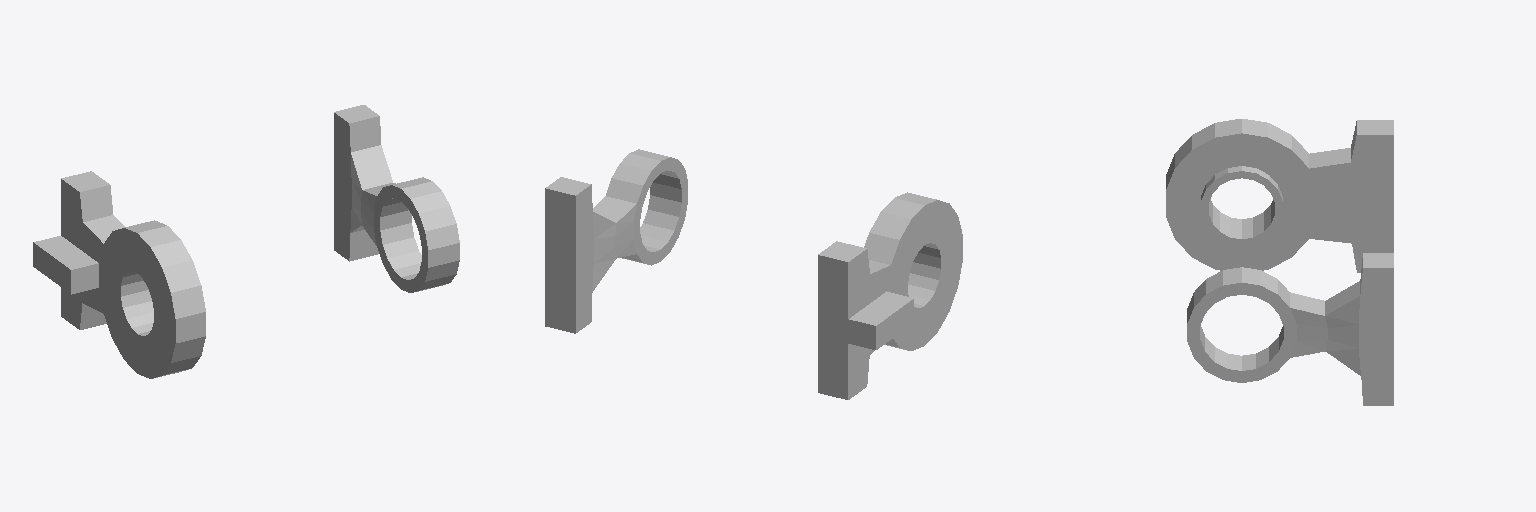
The model's file is RAnkleRoll_secondaryskin.obj.
3 renders of one model, left to right at view 1: azimuth 30°, elevation 25°; view 2: azimuth 150°, elevation 25°; view 3: azimuth 270°, elevation 25°, orthographic.
Bounding box in the file's own units: 0.119 × 0.0483 × 0.0713.